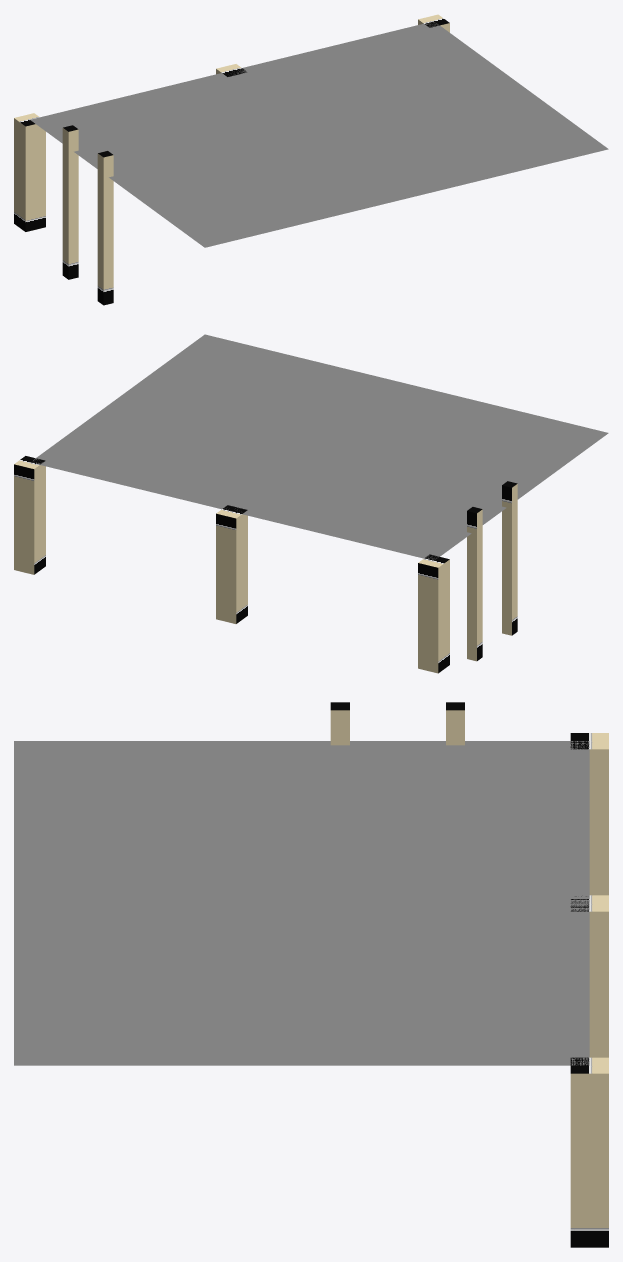
The model's file is peluqueria1fbx.fbx.
The picture shows the model from 3 angles, top to bottom: view 1: azimuth 30°, elevation 25°; view 2: azimuth 150°, elevation 25°; view 3: azimuth 270°, elevation 25°; orthographic projection. The views are drawn at different scales.
Parts seen in each view (by area): view 1: p1piso1, pCube13, pCube15, pCube16; view 2: p1piso1, pCube13, pCube12, pCube14, pCube16, pCube15; view 3: p1piso1, pCube14, pCube13, pCube12, pCube16, pCube15.
Boxes of the visible parts, left/top/right/bottom form: p1piso1: left=30, top=22, right=608, bottom=247; pCube13: left=14, top=113, right=45, bottom=231; pCube15: left=62, top=125, right=78, bottom=279; pCube16: left=97, top=151, right=113, bottom=305; p1piso1: left=33, top=334, right=608, bottom=560; pCube13: left=418, top=554, right=449, bottom=673; pCube12: left=216, top=505, right=247, bottom=623; pCube14: left=14, top=456, right=45, bottom=574; pCube16: left=502, top=481, right=517, bottom=635; pCube15: left=467, top=507, right=482, bottom=661; p1piso1: left=14, top=741, right=589, bottom=1065; pCube14: left=570, top=1057, right=608, bottom=1247; pCube13: left=570, top=733, right=608, bottom=895; pCube12: left=570, top=895, right=608, bottom=1057; pCube16: left=330, top=702, right=349, bottom=745; pCube15: left=446, top=702, right=464, bottom=745.
Size of the model in its own units: 42 by 14 by 31.
